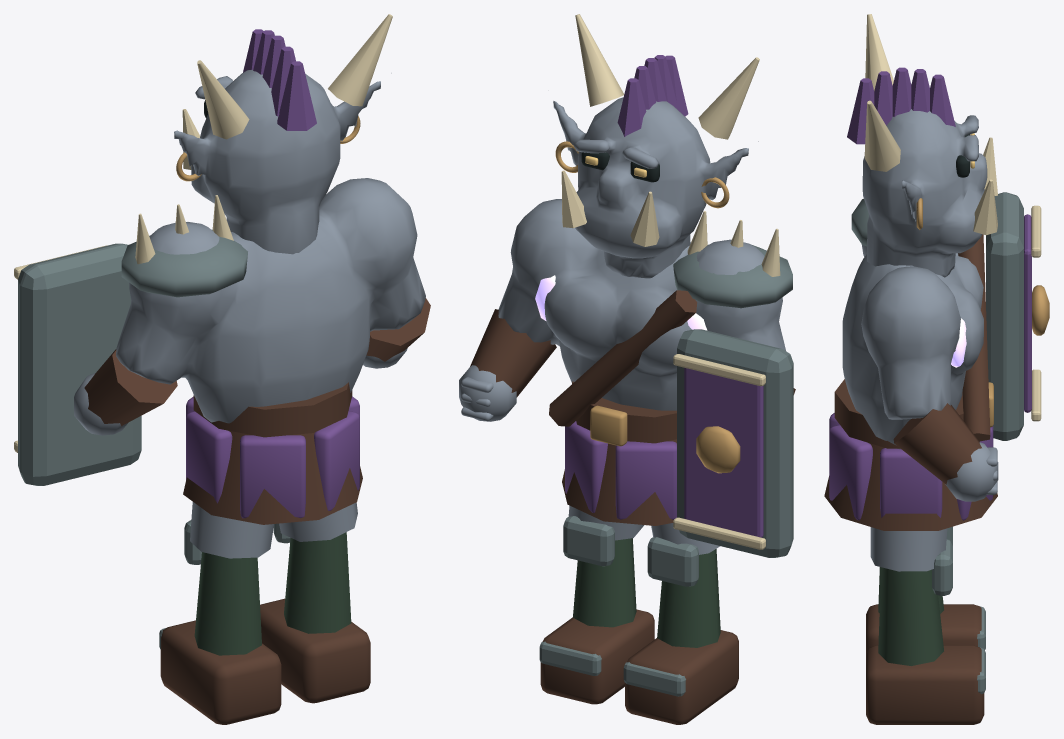
File: host_46.glb
The picture shows the model from 3 angles, left to right: view 1: azimuth 30°, elevation 25°; view 2: azimuth 150°, elevation 25°; view 3: azimuth 270°, elevation 25°; orthographic projection. The views are drawn at different scales.
Parts seen in each view (by area): view 1: mesh_Skin.002, mesh_Iron.002, mesh_Cloth.045, mesh_Leather.002, mesh_Leather.045, mesh_Leather.001, mesh_Bone.045, mesh_Shadow.045, mesh_Shadow.001, mesh_Skin.045, mesh_Skin.001; view 2: mesh_Skin.002, mesh_Cloth.045, mesh_Iron.002, mesh_Leather.002, mesh_Bone.045, mesh_Leather.045, mesh_Leather.001, mesh_Shadow.045, mesh_Shadow.001, mesh_Copper.045, mesh_Iron.045, mesh_Iron.001 (+4 smaller); view 3: mesh_Skin.002, mesh_Cloth.045, mesh_Leather.002, mesh_Iron.002, mesh_Leather.001, mesh_Shadow.001, mesh_Bone.045, mesh_Skin.001, mesh_Leather.045, mesh_Iron.001, mesh_Copper.045, mesh_Soul.045.
Boxes of the visible parts, left/top/right/bottom form: mesh_Skin.002: left=74, top=69, right=425, bottom=435; mesh_Iron.002: left=18, top=229, right=247, bottom=485; mesh_Cloth.045: left=186, top=29, right=359, bottom=518; mesh_Leather.002: left=84, top=298, right=430, bottom=524; mesh_Leather.045: left=160, top=620, right=281, bottom=724; mesh_Leather.001: left=260, top=598, right=370, bottom=703; mesh_Bone.045: left=14, top=14, right=392, bottom=452; mesh_Shadow.045: left=194, top=552, right=261, bottom=655; mesh_Shadow.001: left=284, top=532, right=351, bottom=633; mesh_Skin.045: left=190, top=502, right=273, bottom=558; mesh_Skin.001: left=279, top=502, right=357, bottom=541; mesh_Skin.002: left=459, top=97, right=785, bottom=421; mesh_Cloth.045: left=565, top=55, right=763, bottom=537; mesh_Iron.002: left=673, top=244, right=793, bottom=557; mesh_Leather.002: left=470, top=290, right=795, bottom=525; mesh_Bone.045: left=561, top=14, right=780, bottom=549; mesh_Leather.045: left=625, top=630, right=738, bottom=724; mesh_Leather.001: left=540, top=609, right=654, bottom=704; mesh_Shadow.045: left=657, top=549, right=720, bottom=647; mesh_Shadow.001: left=573, top=538, right=636, bottom=627; mesh_Copper.045: left=555, top=141, right=740, bottom=473; mesh_Iron.045: left=623, top=537, right=698, bottom=696; mesh_Iron.001: left=539, top=516, right=614, bottom=675; mesh_Skin.002: left=842, top=109, right=998, bottom=501; mesh_Cloth.045: left=829, top=67, right=1031, bottom=520; mesh_Leather.002: left=824, top=234, right=997, bottom=530; mesh_Iron.002: left=851, top=192, right=1023, bottom=440; mesh_Leather.001: left=866, top=645, right=984, bottom=724; mesh_Shadow.001: left=878, top=567, right=943, bottom=665; mesh_Bone.045: left=864, top=14, right=1041, bottom=421; mesh_Skin.001: left=870, top=527, right=947, bottom=571; mesh_Leather.045: left=866, top=604, right=981, bottom=654; mesh_Iron.001: left=932, top=539, right=985, bottom=694; mesh_Copper.045: left=916, top=198, right=1049, bottom=427; mesh_Soul.045: left=951, top=318, right=966, bottom=367.
Size of the model in its own units: 1.11 by 1.96 by 0.6289.
